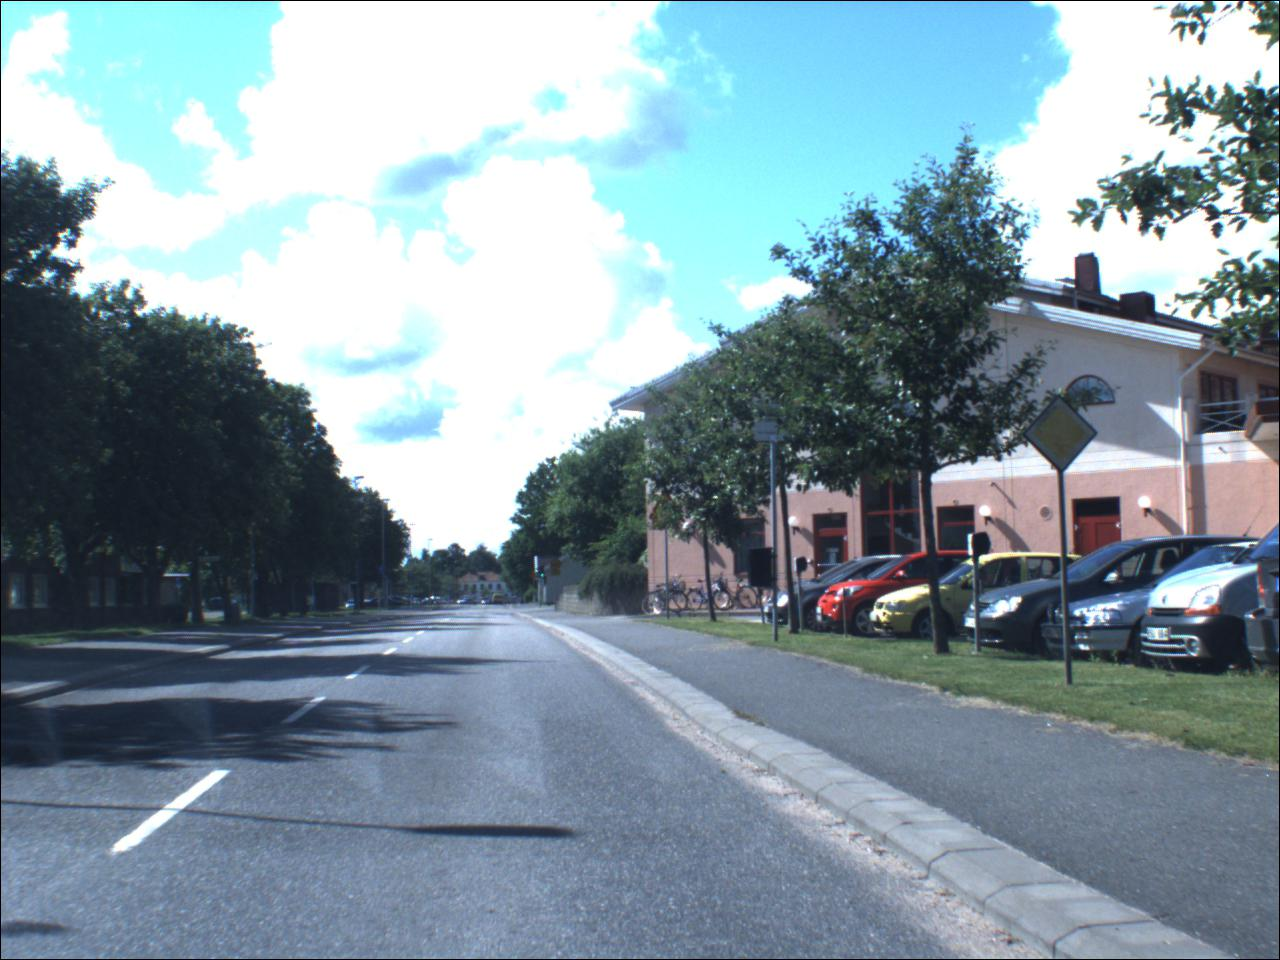PRIORITY_ROAD: (1024, 397, 1100, 475)
